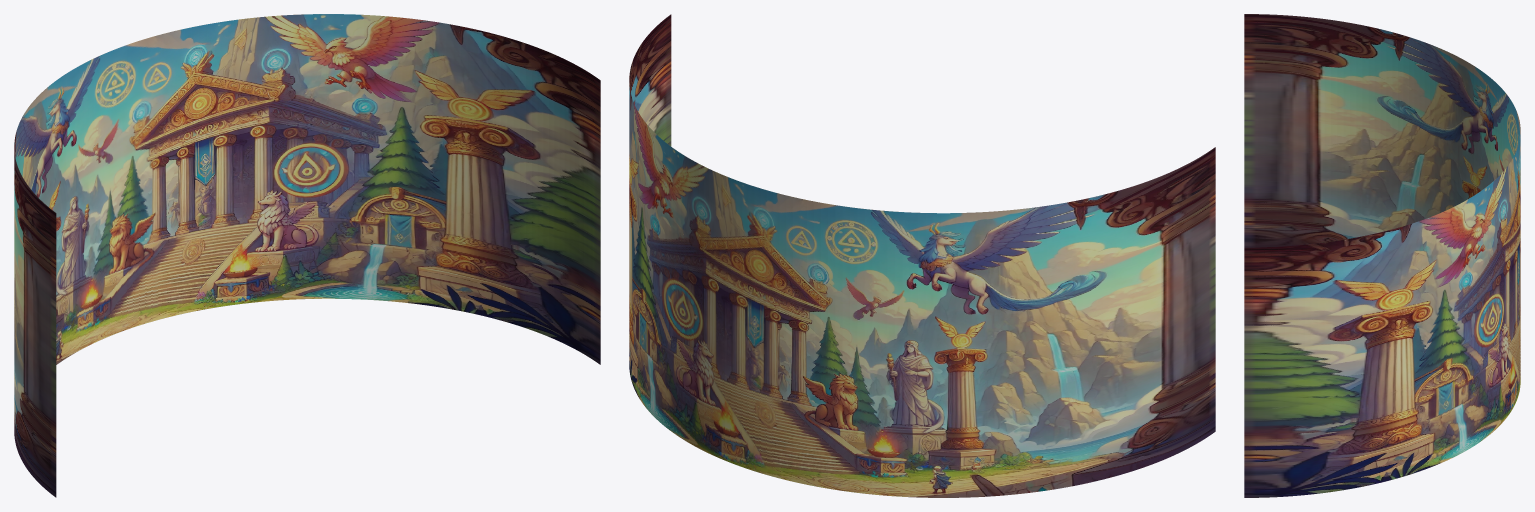
The model's file is Background_fbx_common_textured.fbx.
3 views of the same model, side by side, from view 1: azimuth 30°, elevation 25°; view 2: azimuth 150°, elevation 25°; view 3: azimuth 270°, elevation 25° (orthographic). The views are drawn at different scales.
Visible parts, largest first — view 1: Obj; view 2: Obj; view 3: Obj.
Part boxes in pixels (x1,y1,x2,y2): Obj: (14, 14, 600, 497); Obj: (629, 14, 1215, 497); Obj: (1244, 14, 1520, 497).
Size of the model in its own units: 200 by 100 by 100.
Materials: 1 (1 with a texture image).
